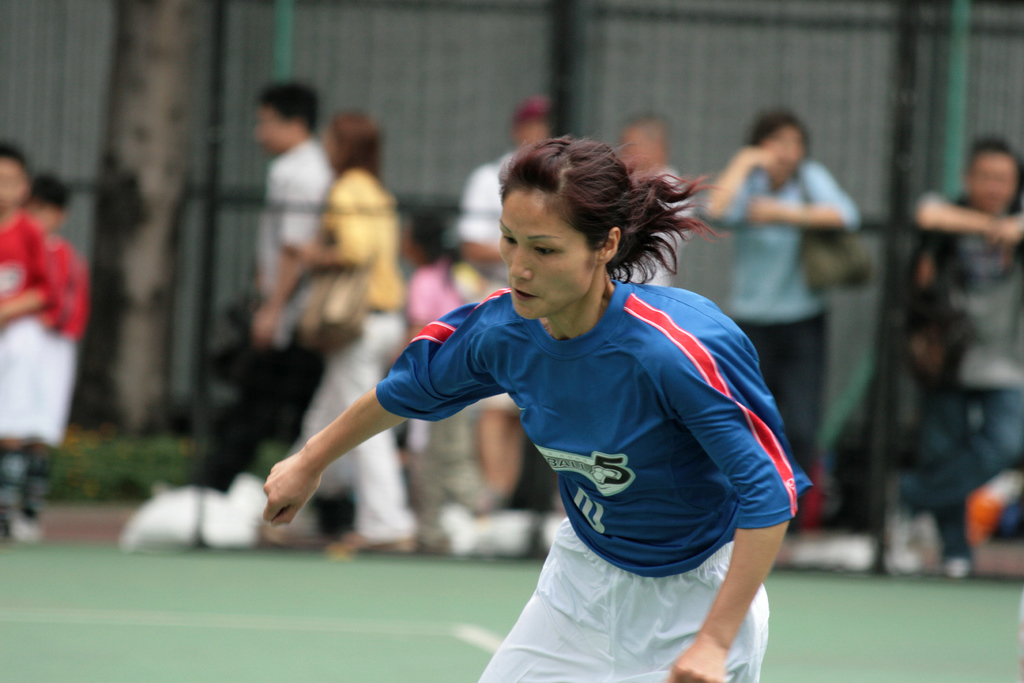Person: (695, 106, 861, 528), (880, 130, 1024, 577)
